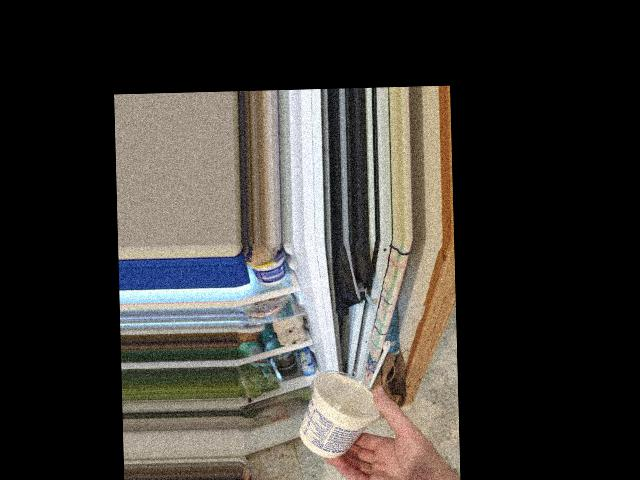cotage: (300, 366, 375, 451)
